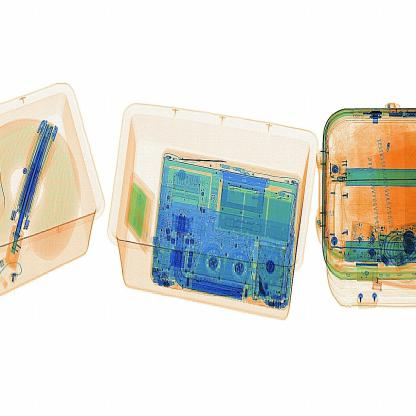wrench: (169, 151, 237, 173)
